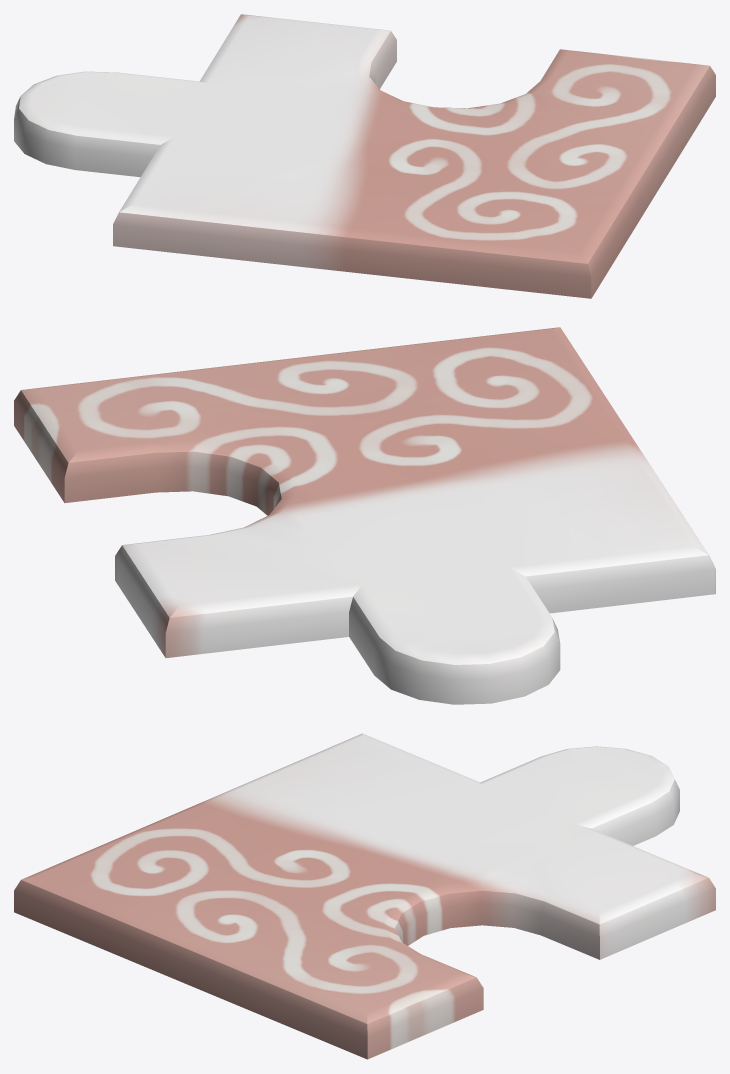
The model's file is PuzzlePiece3.fbx.
The picture shows the model from 3 angles, top to bottom: view 1: azimuth 30°, elevation 25°; view 2: azimuth 150°, elevation 25°; view 3: azimuth 270°, elevation 25°; orthographic projection. The views are drawn at different scales.
Visible parts, largest first — view 1: polySurface3; view 2: polySurface3; view 3: polySurface3.
Boxes of the visible parts, box(x1,y1,x2,y2) form: polySurface3: box(14, 14, 715, 298); polySurface3: box(14, 327, 715, 704); polySurface3: box(14, 733, 715, 1059).
Size of the model in its own units: 1.41 by 0.0821 by 1.41.
2 materials, 1 textured.
